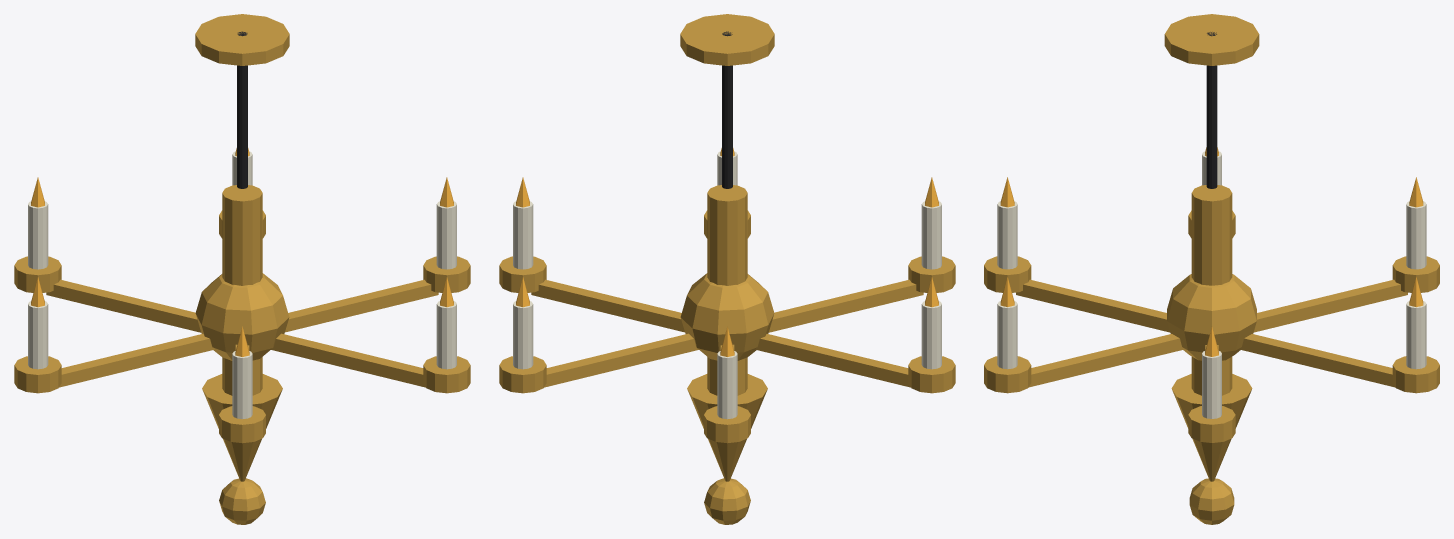
Rendered from candelabro.obj.
3 renders of one model, left to right at view 1: azimuth 30°, elevation 25°; view 2: azimuth 150°, elevation 25°; view 3: azimuth 270°, elevation 25°, orthographic.
Visible parts, largest first — view 1: parte_03_latao, parte_02_latao, parte_01_latao, parte_18_latao, parte_26_latao, parte_14_latao, parte_06_latao, parte_04_latao, parte_05_latao, parte_00_ferro, parte_19_latao, parte_27_latao (+8 smaller); view 2: parte_03_latao, parte_02_latao, parte_01_latao, parte_18_latao, parte_10_latao, parte_22_latao, parte_06_latao, parte_04_latao, parte_05_latao, parte_00_ferro, parte_19_latao, parte_11_latao (+8 smaller); view 3: parte_03_latao, parte_02_latao, parte_01_latao, parte_10_latao, parte_26_latao, parte_14_latao, parte_22_latao, parte_04_latao, parte_05_latao, parte_00_ferro, parte_11_latao, parte_27_latao (+8 smaller).
Part boxes in pixels (left/top/right/bottom): parte_03_latao: left=195, top=273, right=289, bottom=360; parte_02_latao: left=222, top=185, right=262, bottom=395; parte_01_latao: left=195, top=14, right=289, bottom=65; parte_18_latao: left=59, top=334, right=214, bottom=387; parte_26_latao: left=271, top=333, right=425, bottom=387; parte_14_latao: left=46, top=279, right=200, bottom=332; parte_06_latao: left=285, top=279, right=438, bottom=332; parte_04_latao: left=202, top=374, right=282, bottom=481; parte_05_latao: left=219, top=478, right=265, bottom=524; parte_00_ferro: left=237, top=31, right=247, bottom=188; parte_19_latao: left=14, top=356, right=61, bottom=393; parte_27_latao: left=423, top=356, right=470, bottom=393; parte_03_latao: left=680, top=273, right=774, bottom=360; parte_02_latao: left=707, top=185, right=747, bottom=395; parte_01_latao: left=680, top=14, right=774, bottom=65; parte_18_latao: left=755, top=334, right=910, bottom=387; parte_10_latao: left=544, top=333, right=698, bottom=387; parte_22_latao: left=769, top=279, right=923, bottom=332; parte_06_latao: left=531, top=279, right=684, bottom=332; parte_04_latao: left=687, top=374, right=767, bottom=481; parte_05_latao: left=704, top=478, right=750, bottom=524; parte_00_ferro: left=722, top=31, right=732, bottom=188; parte_19_latao: left=908, top=356, right=955, bottom=393; parte_11_latao: left=499, top=356, right=546, bottom=393; parte_03_latao: left=1167, top=274, right=1256, bottom=360; parte_02_latao: left=1191, top=185, right=1232, bottom=395; parte_01_latao: left=1164, top=14, right=1259, bottom=65; parte_10_latao: left=1239, top=334, right=1395, bottom=387; parte_26_latao: left=1028, top=334, right=1184, bottom=387; parte_14_latao: left=1253, top=279, right=1407, bottom=332; parte_22_latao: left=1016, top=279, right=1170, bottom=332; parte_04_latao: left=1171, top=374, right=1252, bottom=481; parte_05_latao: left=1189, top=478, right=1234, bottom=524; parte_00_ferro: left=1206, top=32, right=1217, bottom=188; parte_11_latao: left=1392, top=356, right=1439, bottom=393; parte_27_latao: left=984, top=356, right=1031, bottom=393.
Bounding box in the file's own units: 0.77 × 0.8 × 0.6762.
